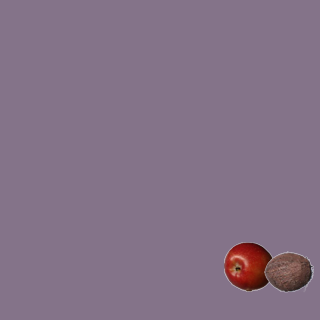Apple Braeburn: (223, 241, 273, 291)
Cocos: (263, 246, 313, 296)
